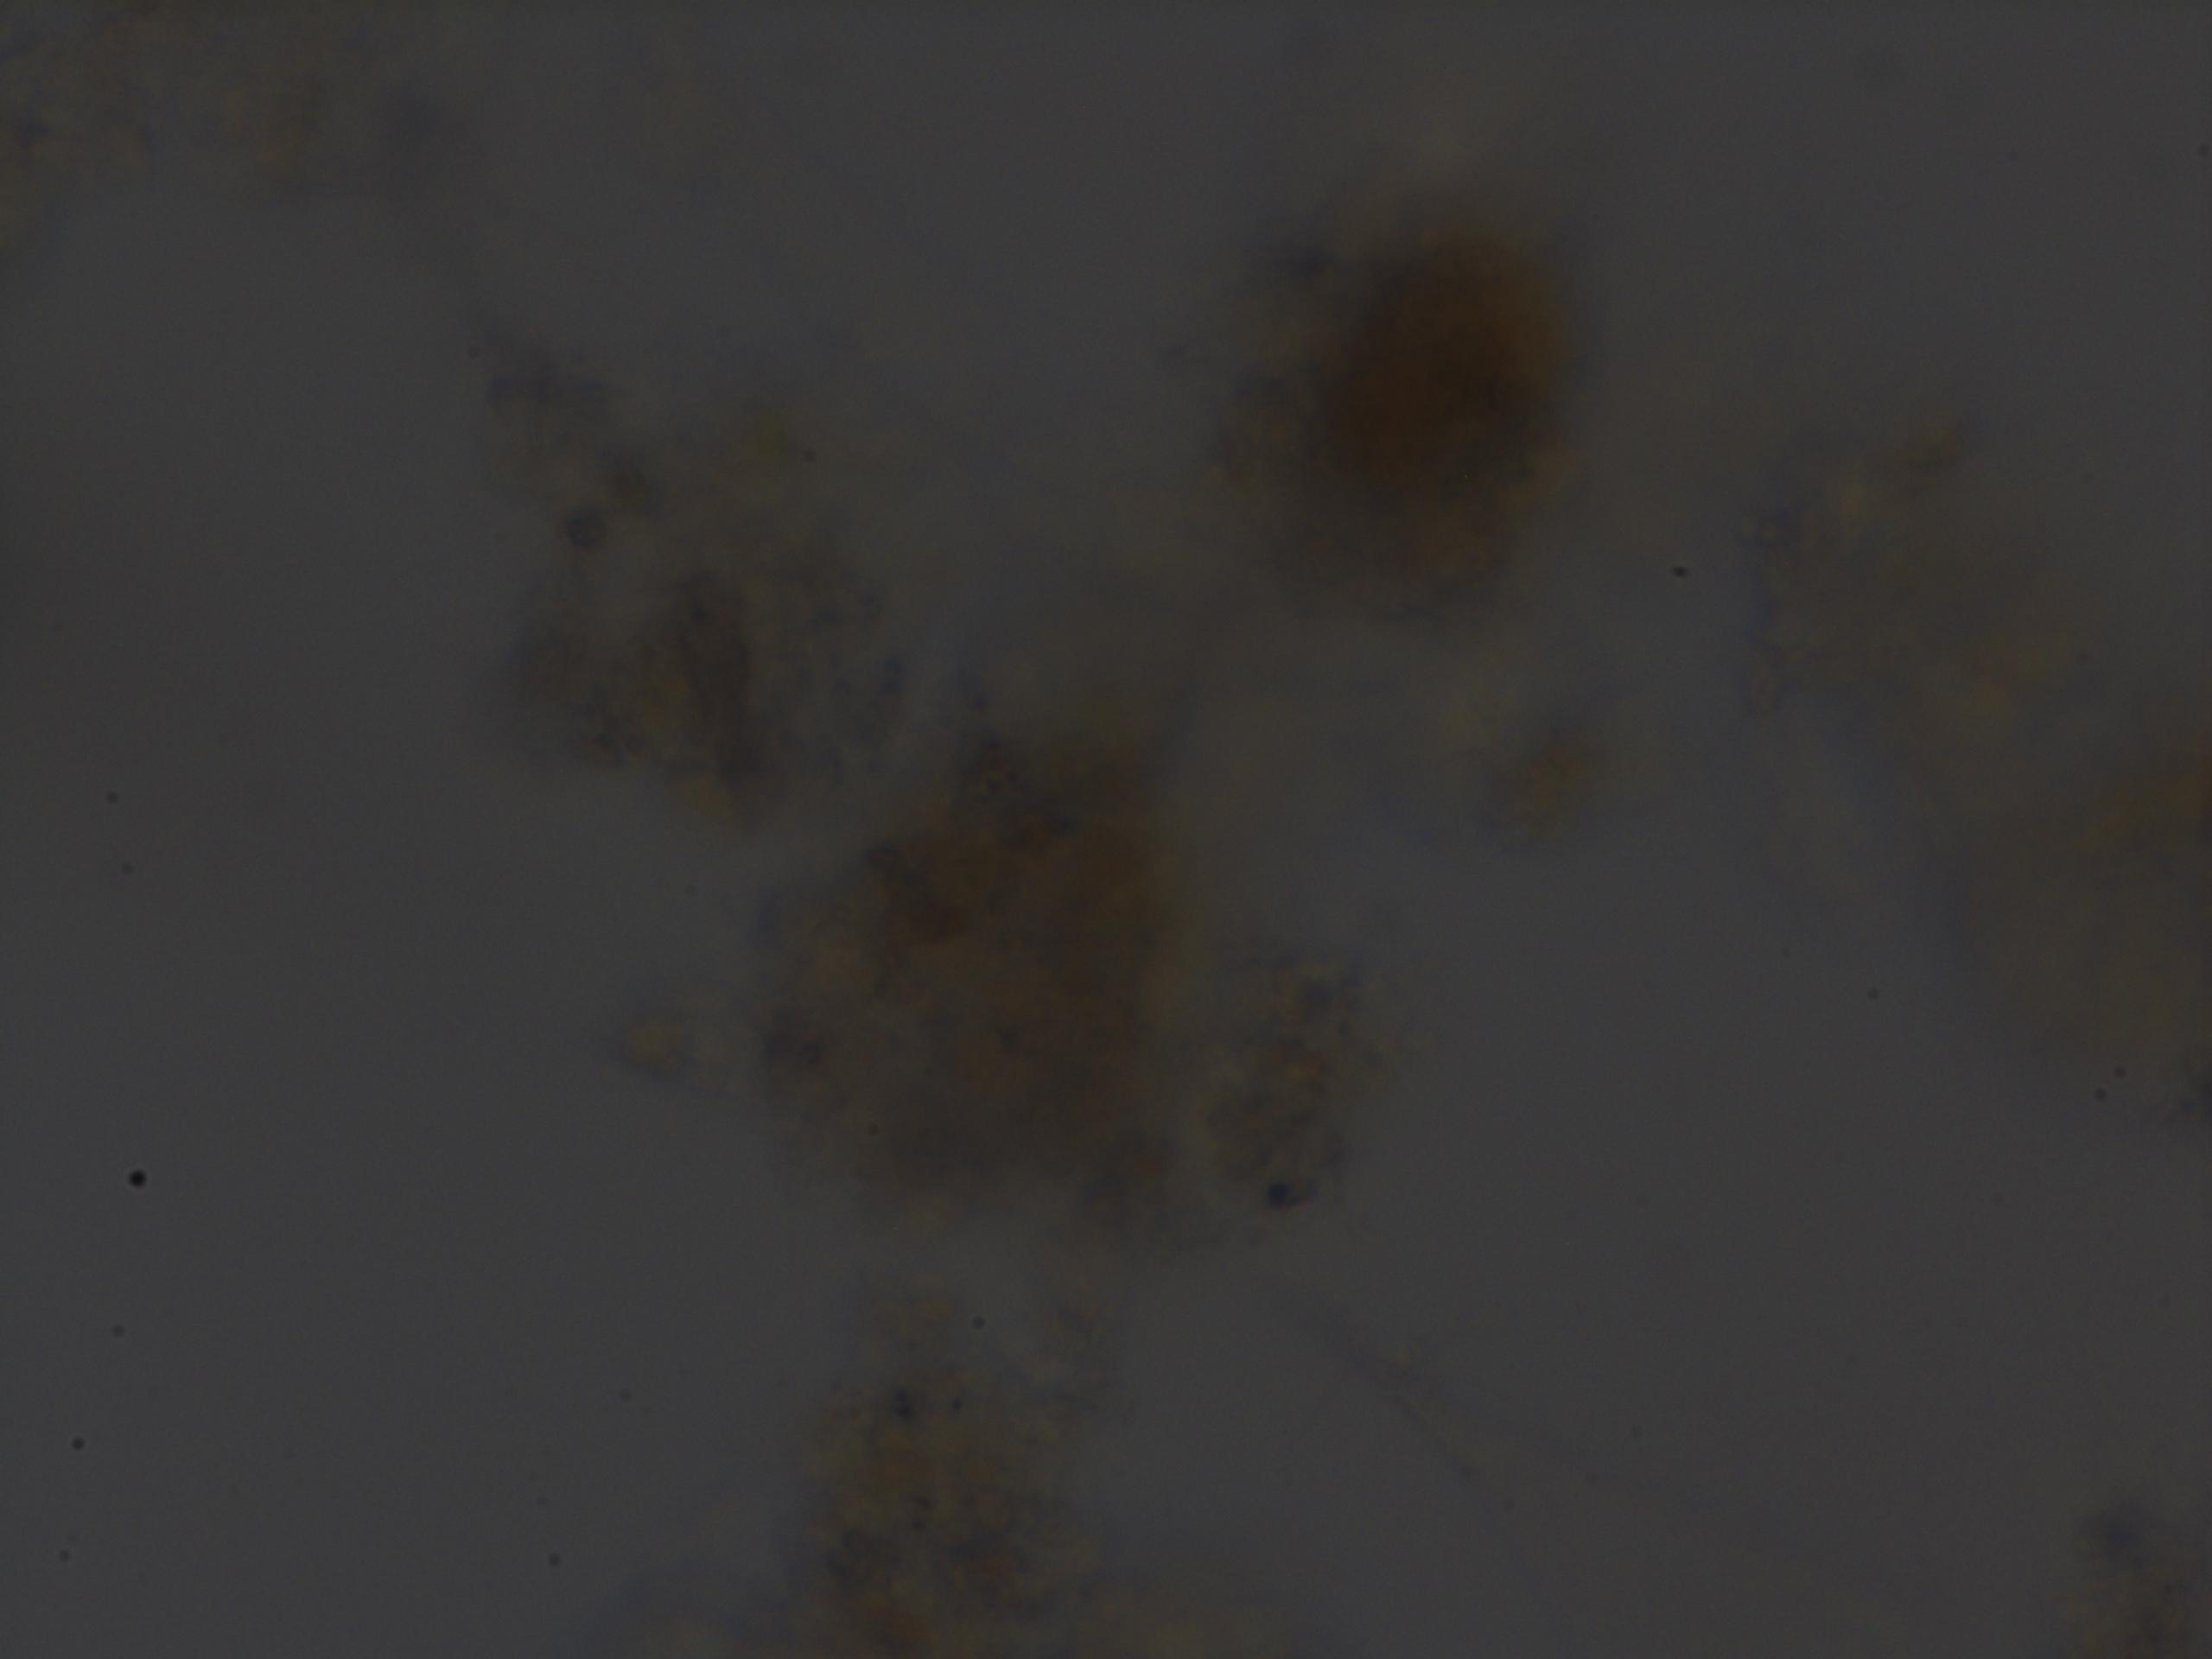open_floc: (448, 186, 1620, 1656)
